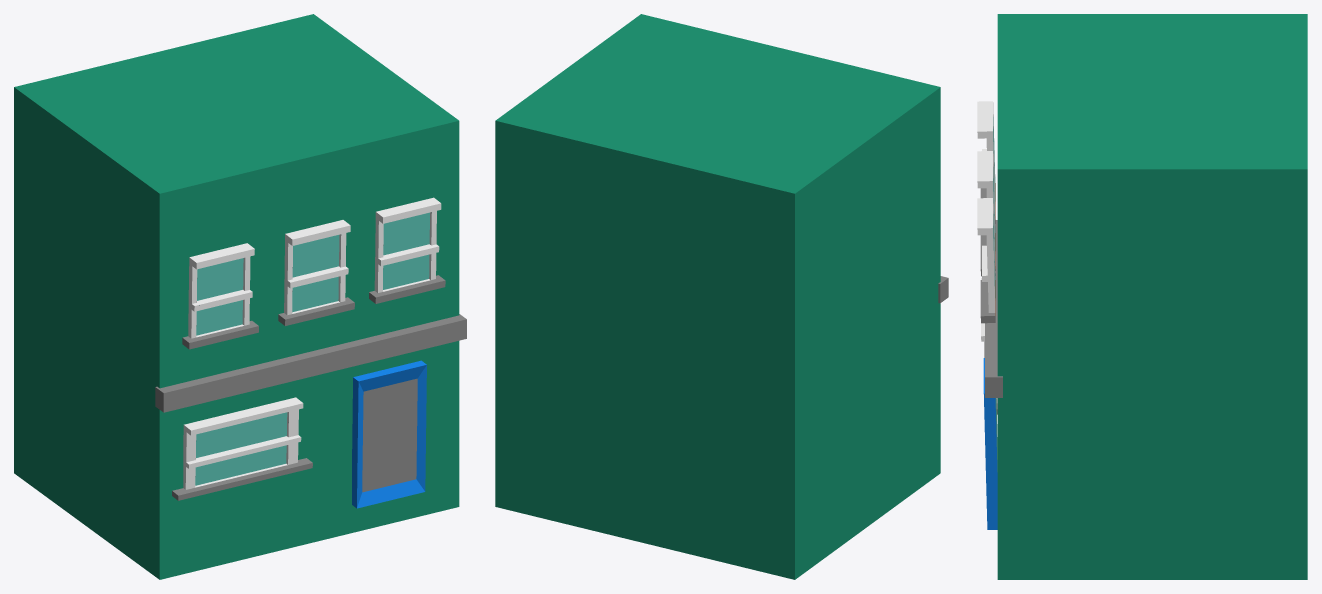
The model's file is prediozin_4.dae.
3 views of the same model, side by side, from view 1: azimuth 30°, elevation 25°; view 2: azimuth 150°, elevation 25°; view 3: azimuth 270°, elevation 25° (orthographic). The views are drawn at different scales.
Parts seen in each view (by area): view 1: pCube9, pCube19, pCube21, pCube18, pCube15, pCube13, pCube14; view 2: pCube9; view 3: pCube9, pCube15, pCube19, pCube18, pCube14, pCube13.
Boxes of the visible parts, x1,y1,x2,y2 form: pCube9: (14,14,459,579); pCube19: (352,360,426,508); pCube21: (172,397,312,500); pCube18: (155,314,466,412); pCube15: (369,197,445,303); pCube13: (182,243,258,349); pCube14: (278,220,354,325); pCube9: (495,14,940,579); pCube9: (997,14,1307,579); pCube15: (977,198,995,323); pCube19: (983,358,997,529); pCube18: (985,220,1002,397); pCube14: (977,151,995,276); pCube13: (977,101,995,225).
Size of the model in its own units: 2.75 by 3.35 by 2.44.
